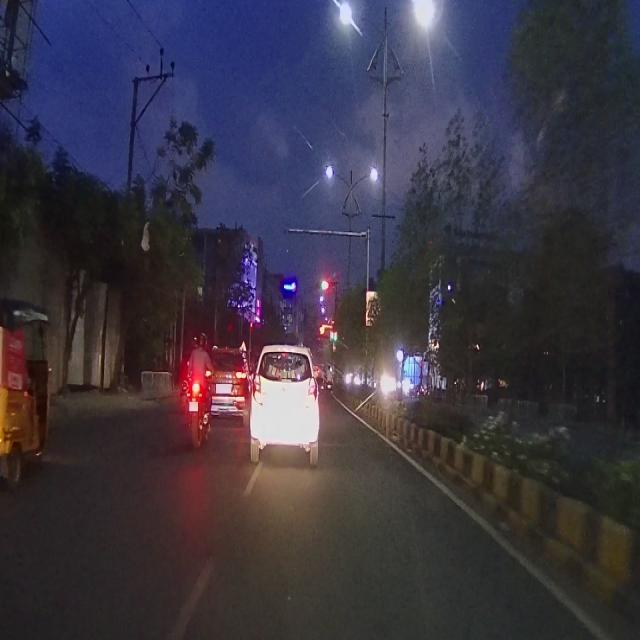car ahead at: (246, 341, 324, 476)
